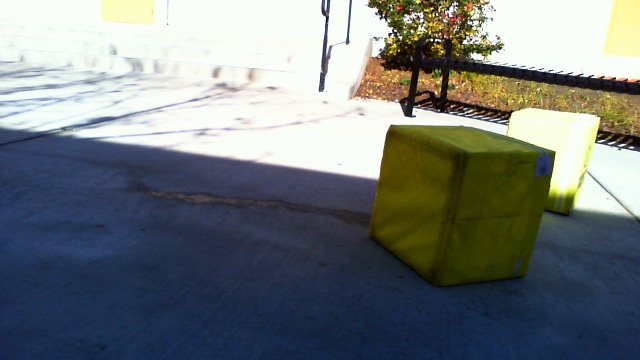cube: (366, 122, 558, 285), (500, 105, 601, 220)
